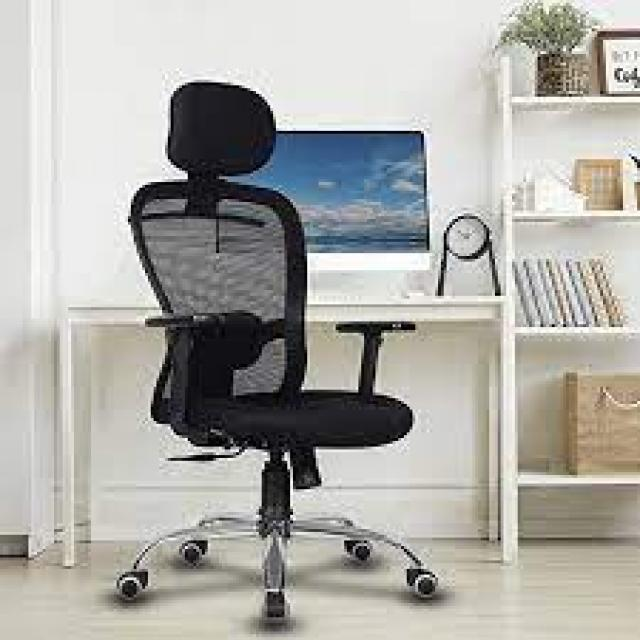chair: (91, 63, 442, 640)
